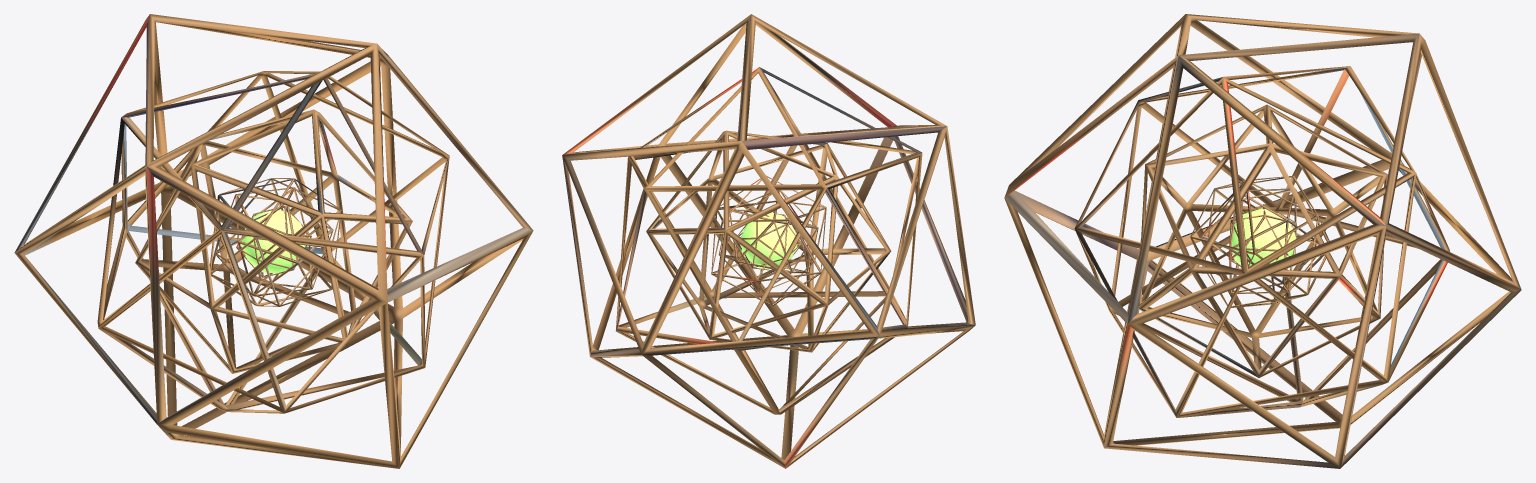
File: dyson_sphere_new.fbx
3 views of the same model, side by side, from view 1: azimuth 30°, elevation 25°; view 2: azimuth 150°, elevation 25°; view 3: azimuth 270°, elevation 25° (orthographic). The views are drawn at different scales.
Parts seen in each view (by area): view 1: Icosphere.002, Icosphere.001, Icosphere.007, Icosphere.004, Icosphere.005, Icosphere.003, Icosphere.006; view 2: Icosphere.002, Icosphere.001, Icosphere.007, Icosphere.004, Icosphere.003, Icosphere.005, Icosphere.006; view 3: Icosphere.002, Icosphere.001, Icosphere.007, Icosphere.004, Icosphere.005, Icosphere.003, Icosphere.006.
Boxes of the visible parts, x1=… form: Icosphere.002: x1=14, y1=14, x2=533, y2=468; Icosphere.001: x1=97, y1=71, x2=449, y2=413; Icosphere.007: x1=135, y1=109, x2=412, y2=373; Icosphere.004: x1=210, y1=178, x2=341, y2=306; Icosphere.005: x1=214, y1=187, x2=333, y2=296; Icosphere.003: x1=241, y1=209, x2=305, y2=273; Icosphere.006: x1=236, y1=205, x2=311, y2=277; Icosphere.002: x1=562, y1=14, x2=975, y2=468; Icosphere.001: x1=615, y1=67, x2=922, y2=414; Icosphere.007: x1=646, y1=130, x2=891, y2=352; Icosphere.004: x1=711, y1=175, x2=826, y2=305; Icosphere.003: x1=740, y1=213, x2=797, y2=269; Icosphere.005: x1=718, y1=190, x2=818, y2=293; Icosphere.006: x1=738, y1=211, x2=801, y2=271; Icosphere.002: x1=1004, y1=14, x2=1521, y2=468; Icosphere.001: x1=1074, y1=66, x2=1449, y2=417; Icosphere.007: x1=1138, y1=104, x2=1387, y2=377; Icosphere.004: x1=1190, y1=175, x2=1329, y2=307; Icosphere.005: x1=1201, y1=188, x2=1318, y2=294; Icosphere.003: x1=1231, y1=208, x2=1295, y2=266; Icosphere.006: x1=1228, y1=204, x2=1296, y2=278.
Size of the model in its own units: 532 by 563 by 610.
